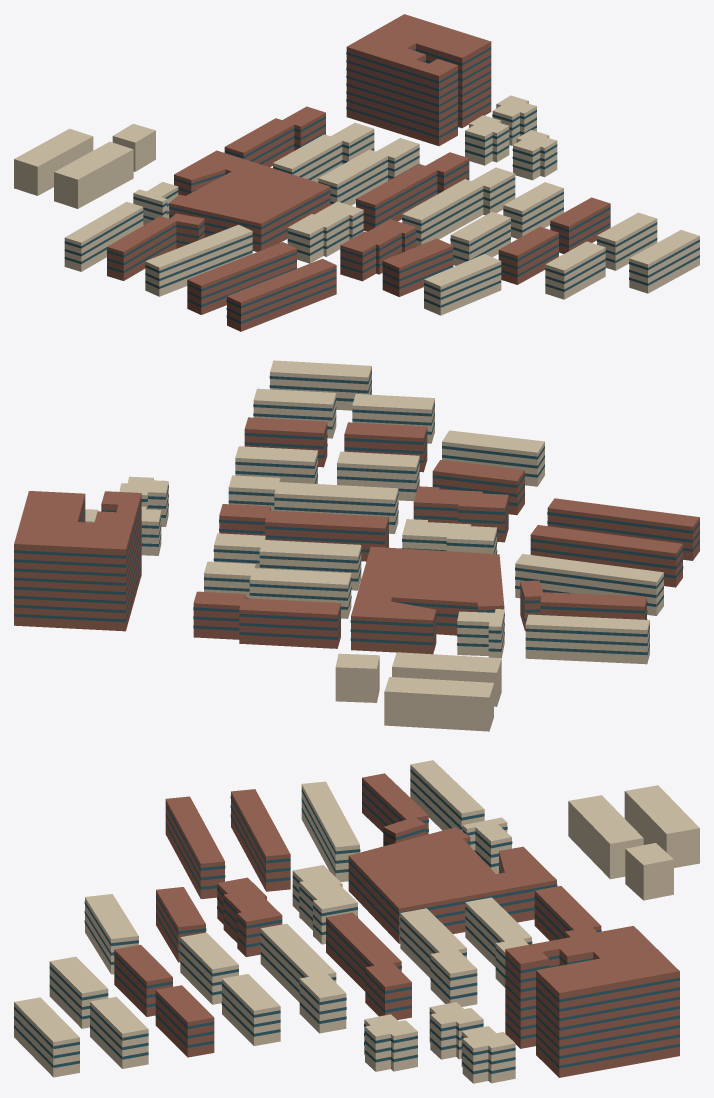
Rendered from city_9_-2.glb.
The picture shows the model from 3 angles, top to bottom: view 1: azimuth 30°, elevation 25°; view 2: azimuth 150°, elevation 25°; view 3: azimuth 270°, elevation 25°; orthographic projection. The views are drawn at different scales.
Parts seen in each view (by area): view 1: city_9_-2; view 2: city_9_-2; view 3: city_9_-2.
Part boxes in pixels (left/top/right/bottom): city_9_-2: left=14, top=14, right=699, bottom=331; city_9_-2: left=14, top=360, right=699, bottom=731; city_9_-2: left=14, top=760, right=699, bottom=1083.
Size of the model in its own units: 262 by 36 by 264.
